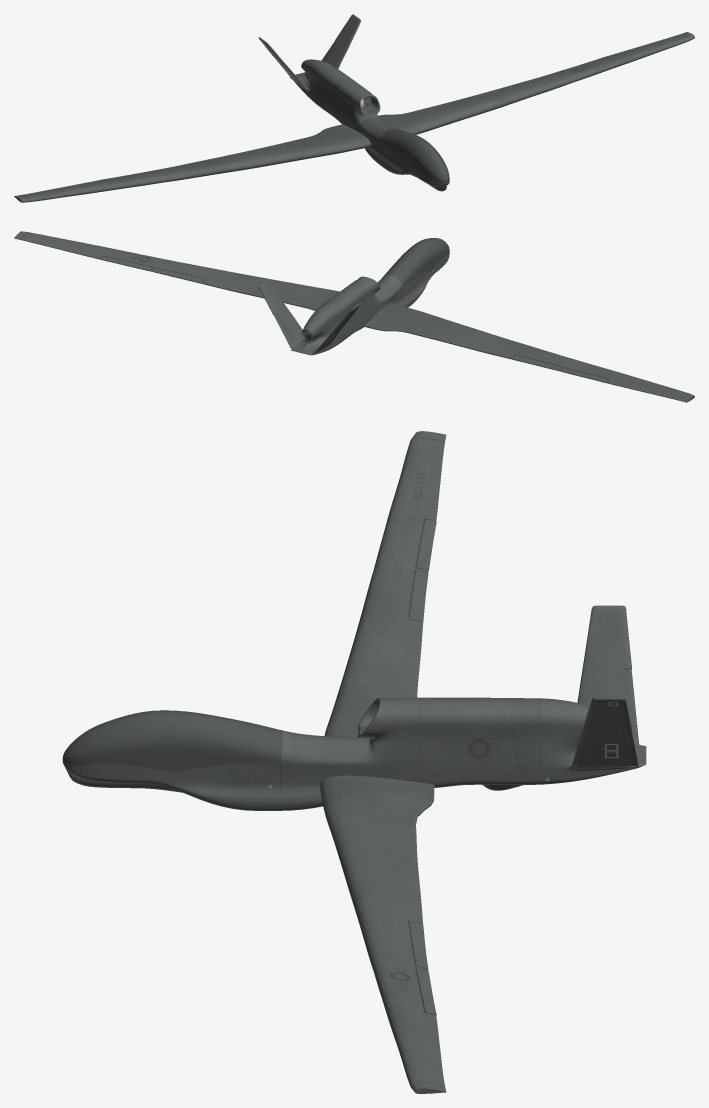
Rendered from rq4_global_hawk.glb.
3 renders of one model, top to bottom at view 1: azimuth 30°, elevation 25°; view 2: azimuth 150°, elevation 25°; view 3: azimuth 270°, elevation 25°, orthographic. The views are drawn at different scales.
Visible parts, largest first — view 1: main_wing, body; view 2: main_wing, body; view 3: body, main_wing.
Part boxes in pixels (left/top/right/bottom): main_wing: left=14, top=32, right=694, bottom=202; body: left=258, top=14, right=449, bottom=191; main_wing: left=14, top=231, right=694, bottom=402; body: left=258, top=238, right=449, bottom=355; body: left=62, top=605, right=646, bottom=810; main_wing: left=320, top=431, right=446, bottom=1093.
Bounding box in the file's own units: 0.4692 × 0.05 × 0.1761.
1 material, 1 textured.
